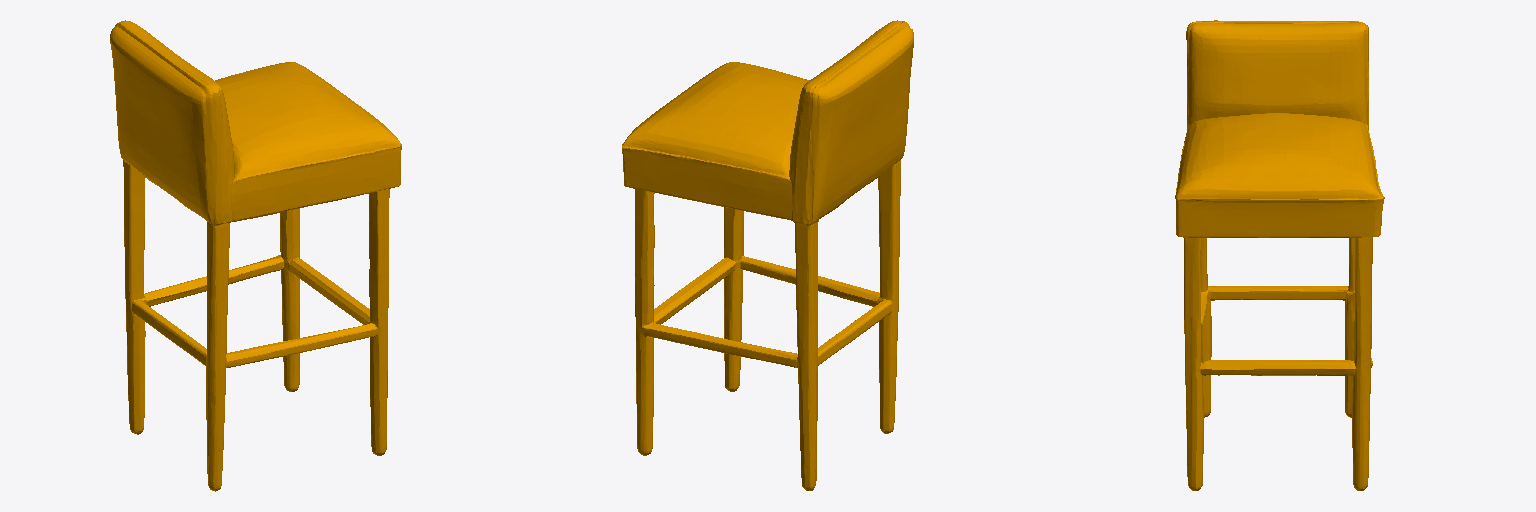
The robot description file, URDF, robot "bar_stool_37":
<?xml version="1.0" ?>
<robot name="bar_stool_37">
   <link name="bar_stool_37">
      <visual>
         <origin xyz="0 0 0" rpy="1.5708 0.0 0.0"/>
         <geometry>
            <mesh filename="mesh/bar_stool_37.obj" scale="1.0 1.0 1.0"/>
         </geometry>
      </visual>
      <collision>
         <origin xyz="0 0 0" rpy="1.5708 0.0 0.0"/>
         <geometry>
            <mesh filename="mesh/bar_stool_37_collision.obj" scale="1.0 1.0 1.0"/>
         </geometry>
         <gazebo>
            <mu1>0.80</mu1>
            <mu2>0.60</mu2>
         </gazebo>
      </collision>
      <inertial>
         <mass value="8.0000"/>
         <origin xyz="0 0 0"/>
         <inertia ixx="1.0" ixy="0.0" ixz="0.0" iyy="1.0" iyz="0.0" izz="1.0"/>
      </inertial>
      <extra_info>
         <scale>1.000000</scale>
         <version>v0.1.5</version>
         <category>bar_stool</category>
         <description>modern black bar stool with cushioned seat and backrest</description>
         <min_height>0.9</min_height>
         <max_height>1.1</max_height>
         <real_height>1.0</real_height>
         <min_mass>6.0</min_mass>
         <max_mass>10.0</max_mass>
         <generate_time>20251021124806</generate_time>
         <gs_model>mesh/bar_stool_37_gs.ply</gs_model>
      </extra_info>
   </link>
   <custom_data>
      <quality>
         <MeshGeoChecker>YES</MeshGeoChecker>
         <ImageSegChecker>YES</ImageSegChecker>
         <ImageAestheticChecker>4.93426775932312</ImageAestheticChecker>
         <overall>YES</overall>
      </quality>
   </custom_data>
</robot>

--- Render facts (derived) ---
Views: 3 orthographic renders of the robot side by side, from view 1: azimuth 30°, elevation 25°; view 2: azimuth 150°, elevation 25°; view 3: azimuth 270°, elevation 25°.
Model bar_stool_37 with 1 links and 0 joints (none), rooted at bar_stool_37, posed all joints at 0.
Links seen in each view (by area): view 1: bar_stool_37; view 2: bar_stool_37; view 3: bar_stool_37.
Boxes of the visible links, box(x1,y1,x2,y2) form: bar_stool_37: box(110, 20, 401, 491); bar_stool_37: box(622, 20, 913, 490); bar_stool_37: box(1175, 20, 1384, 490).
Size in the robot's own frame: 0.5164 by 0.4861 by 1 metres.
Meshes: 1 distinct files referenced, 1 mesh visuals loaded (1 OBJ).
